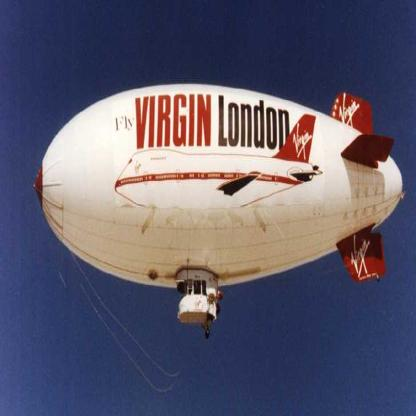Airship: (26, 83, 409, 330)
